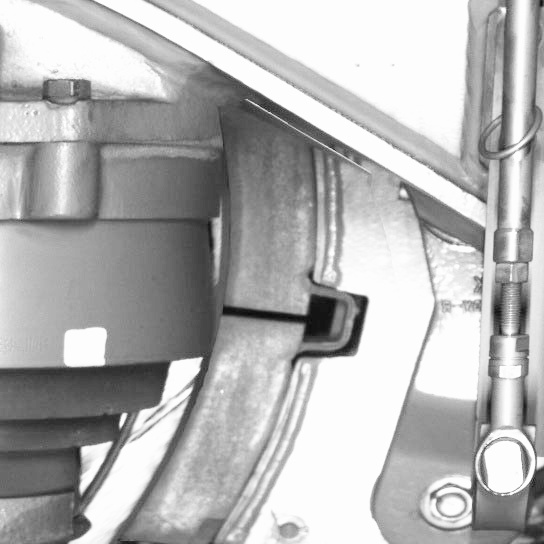ClosedKnifeSwitch: (98, 145, 306, 542)
